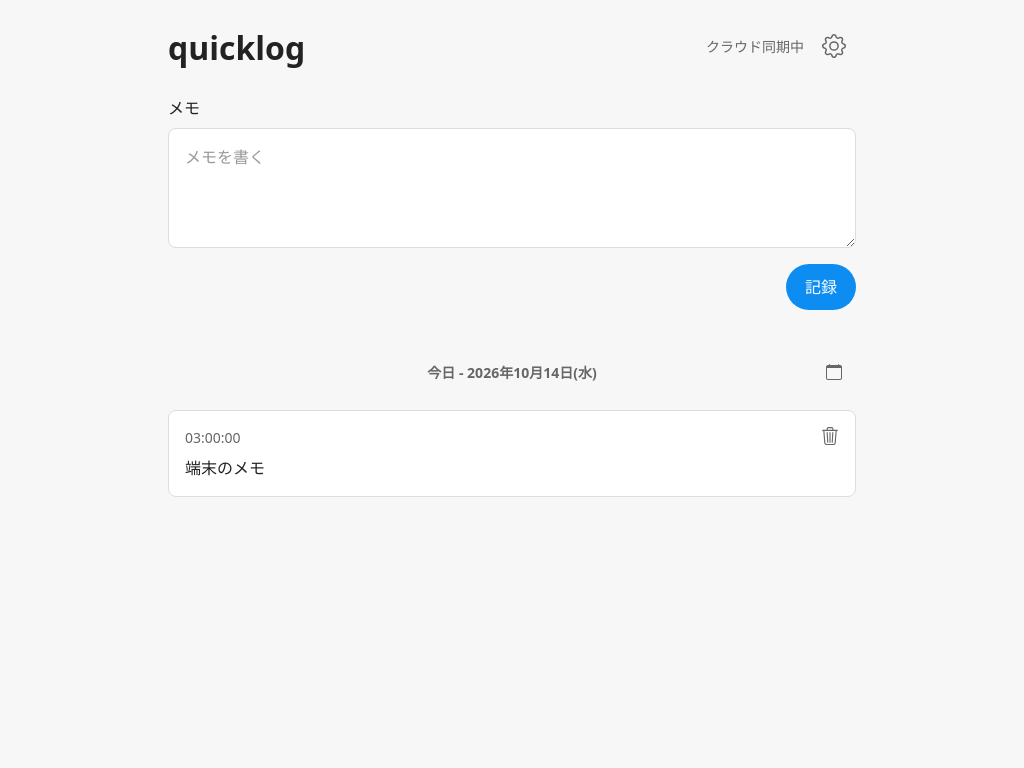
Test: App: 認証状態と同期の接続 › 認証済みでサインアウトすると匿名記録へ表示を切り替え、予約済みの同期を解除する
Type "ユーザーだけのメモ" into the text box labelled "メモ".
click(512, 188); type("ユーザーだけのメモ")  # box [168,128,856,248]
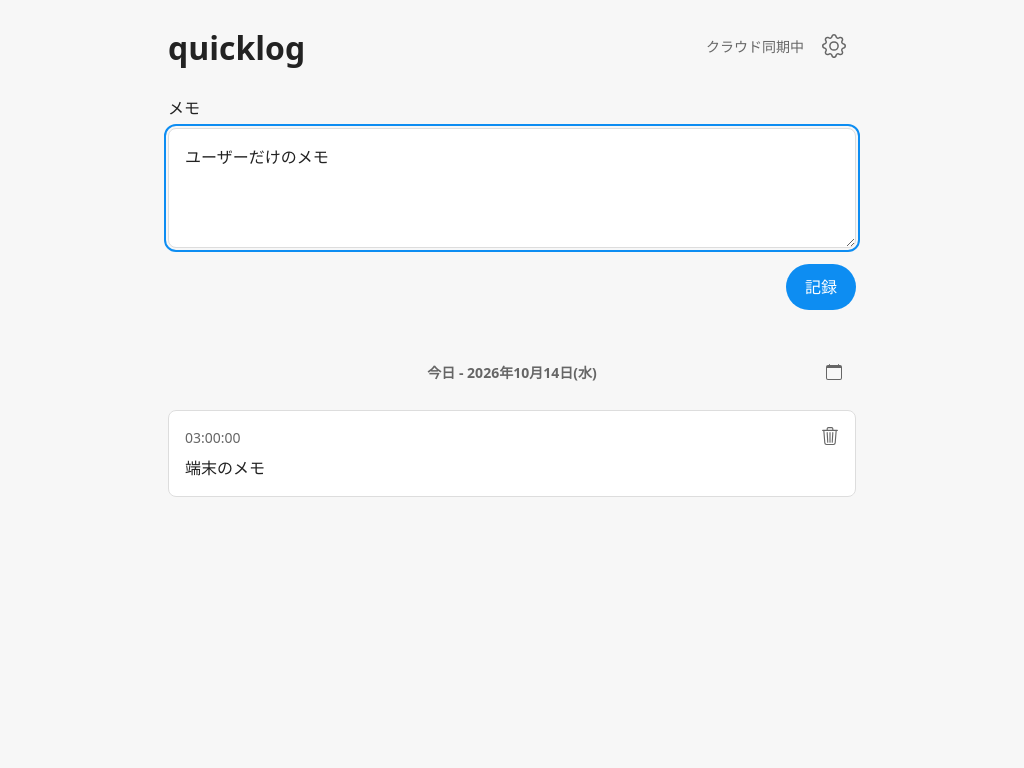
Click the button "記録".
click(821, 287)  # box [786,264,856,310]
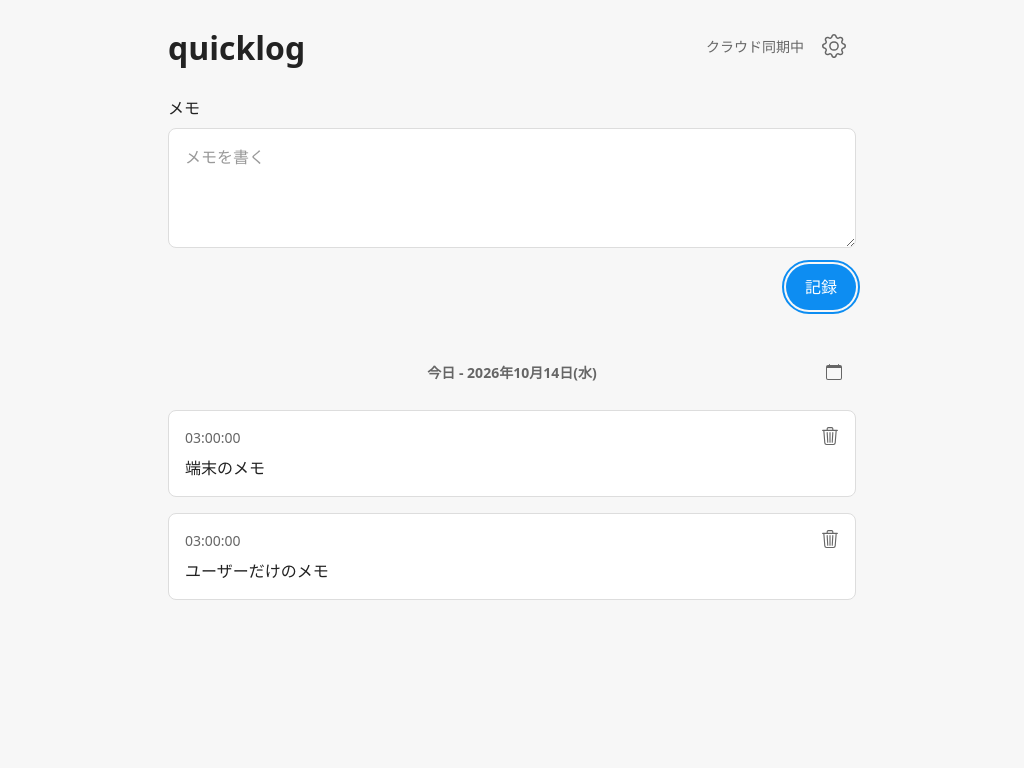
Click the button named "設定".
click(834, 46)  # box [812,24,856,68]
(page scrolled)
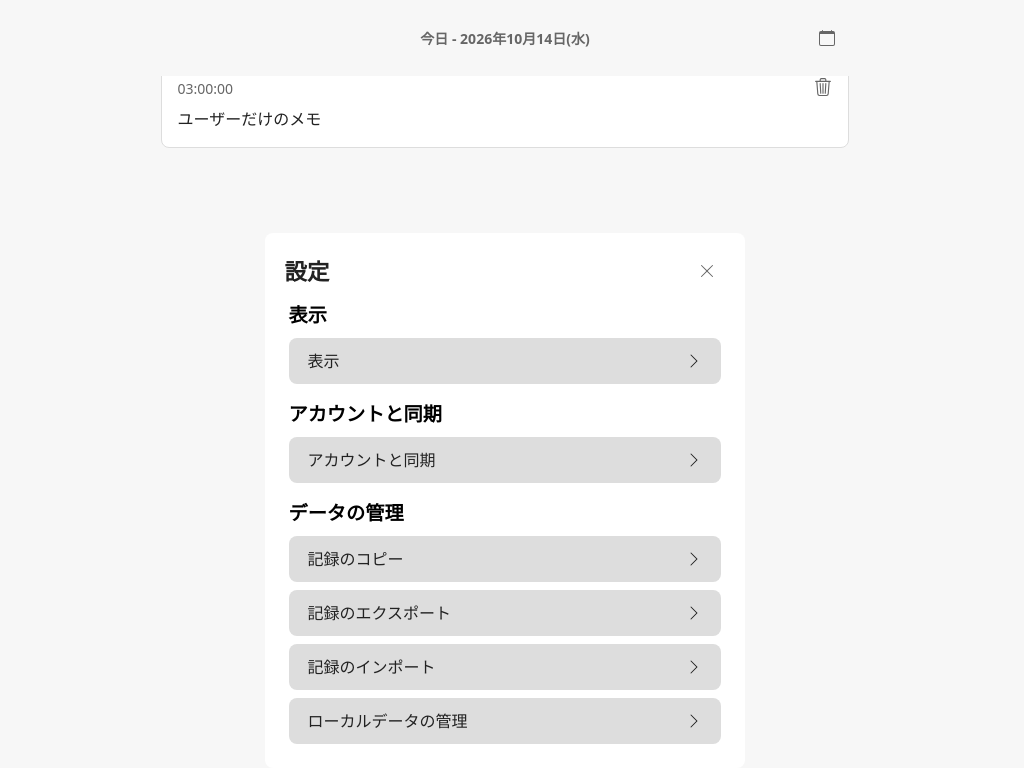
Click the button "アカウントと同期".
click(372, 460)  # box [288,437,720,483]
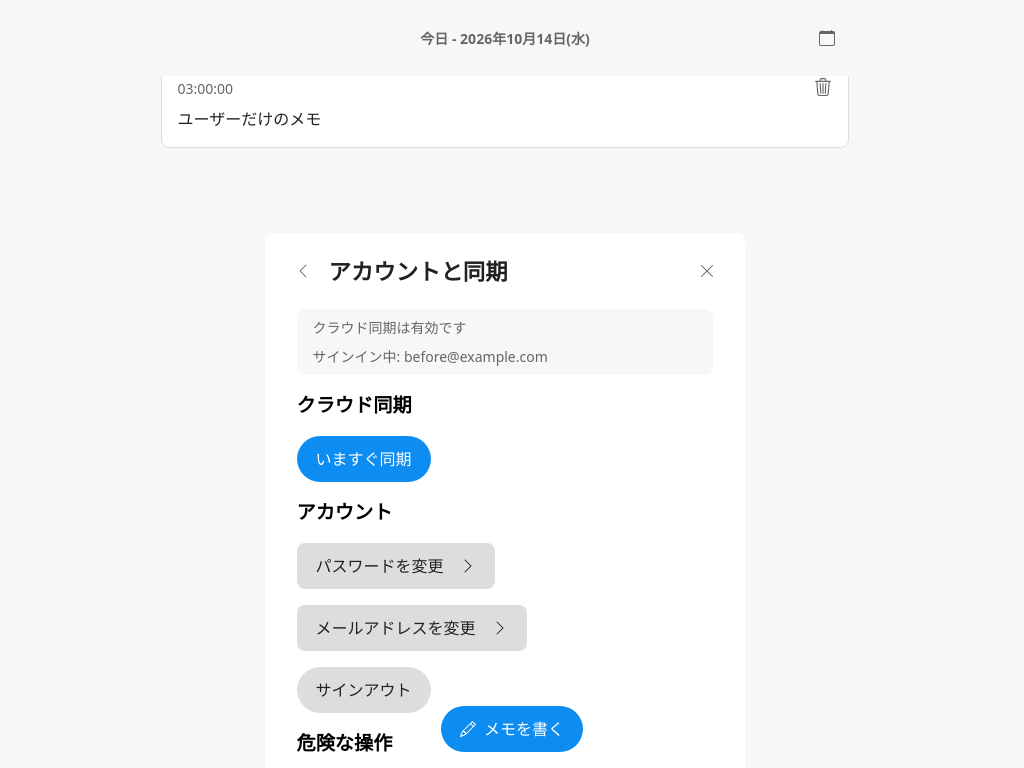
Click the button "サインアウト".
click(364, 690)  # box [296,667,430,713]
Wait 1000 ms
(page scrolled)
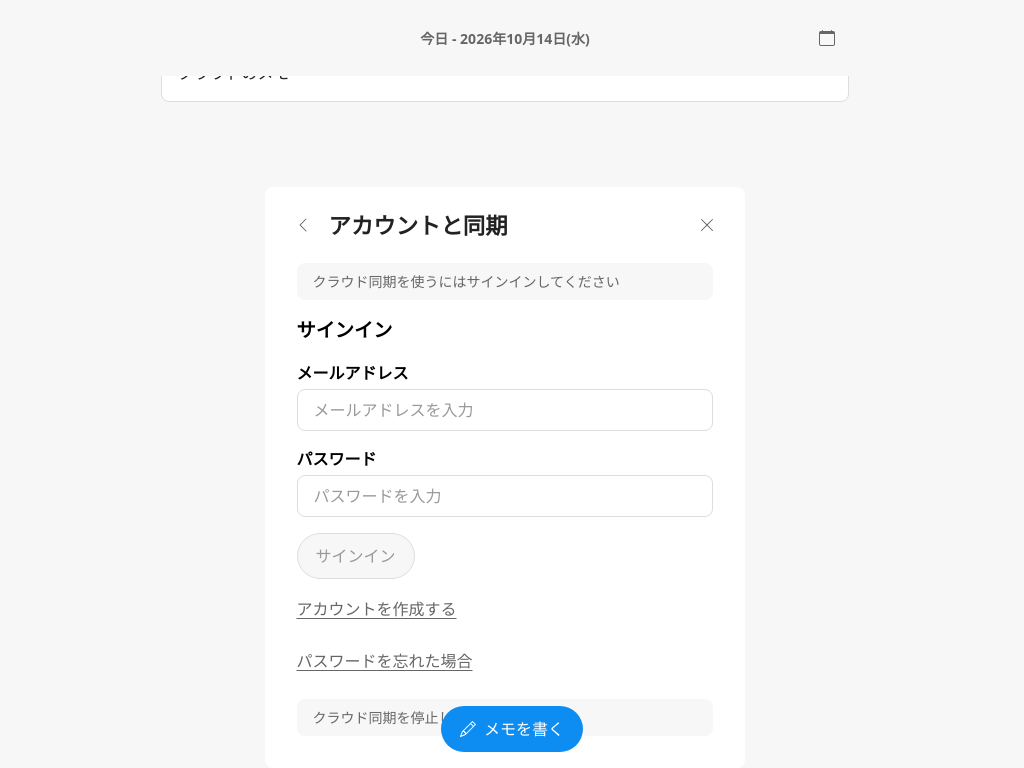
Check: the text "端末のメモ" is not shown
Check: the text "クラウドのメモ" is shown, box [178,62,290,84]
